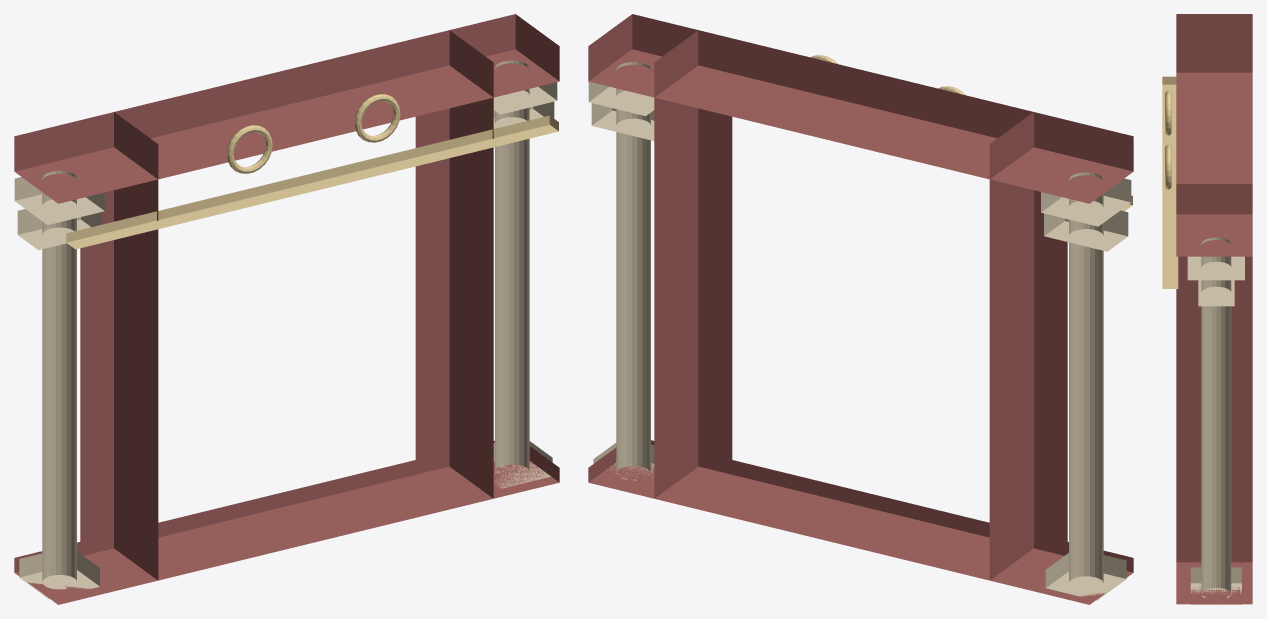
File: baroque_ornate_portal.glb
3 views of the same model, side by side, from view 1: azimuth 30°, elevation 25°; view 2: azimuth 150°, elevation 25°; view 3: azimuth 270°, elevation 25° (orthographic). The views are drawn at different scales.
Parts seen in each view (by area): view 1: baroque_ornate_portal; view 2: baroque_ornate_portal; view 3: baroque_ornate_portal.
Boxes of the visible parts, x1,y1,x2,y2 form: baroque_ornate_portal: (14, 14, 559, 604); baroque_ornate_portal: (588, 14, 1133, 604); baroque_ornate_portal: (1162, 14, 1252, 604).
Size of the model in its own units: 5.81 by 4.7 by 1.02.
